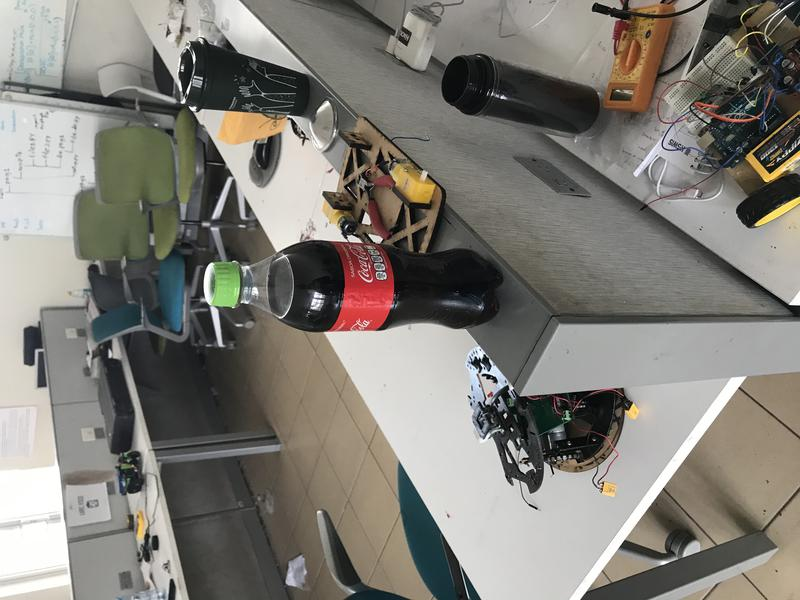coca_cola: (204, 240, 504, 334)
